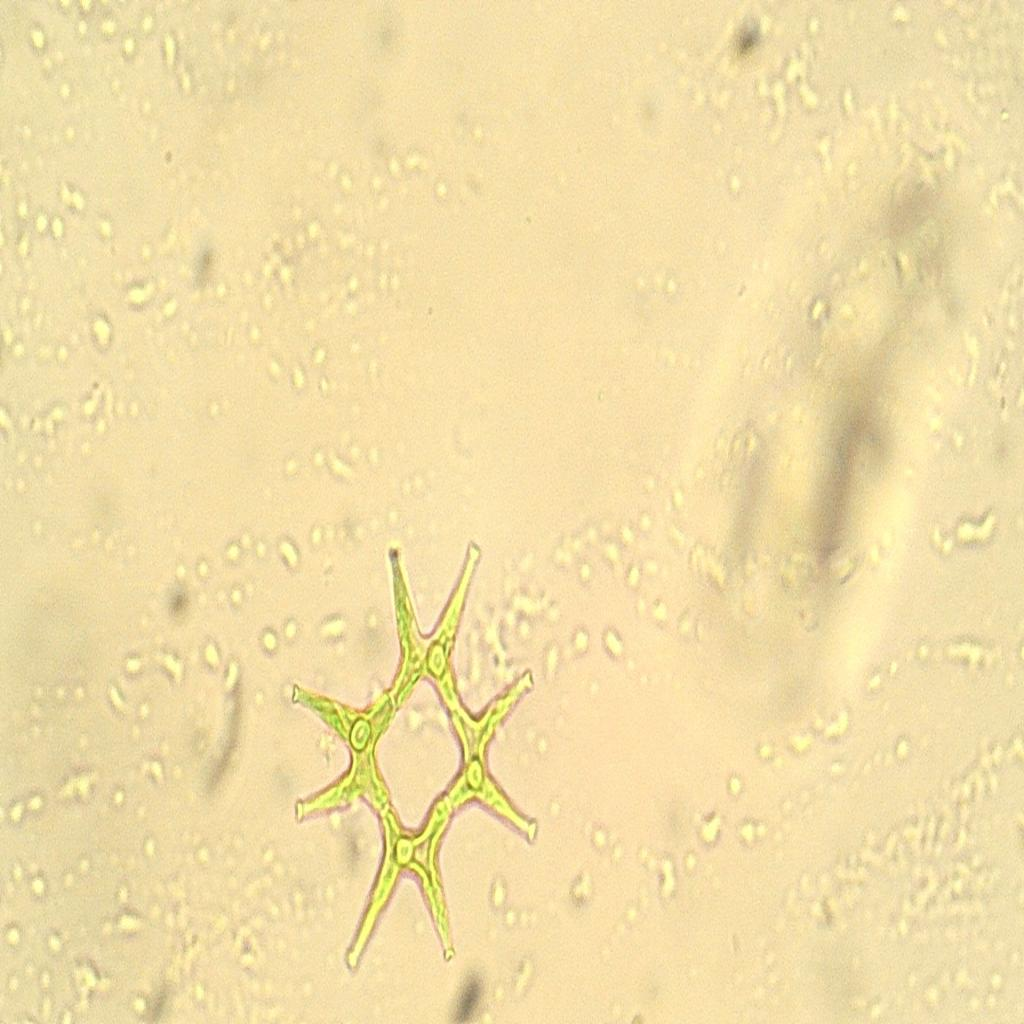Pediastrum_CO: (276, 515, 554, 982)
